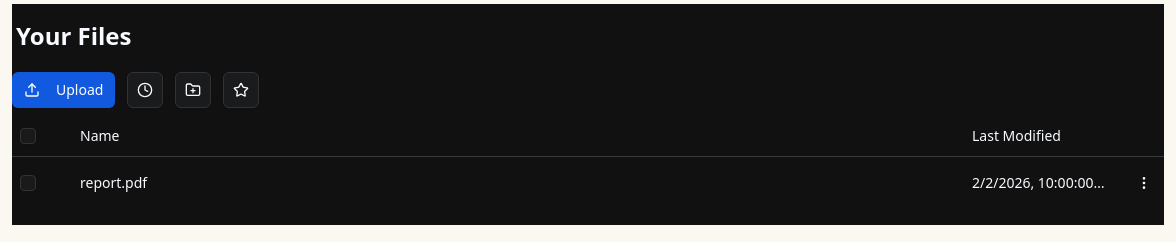
Test: FileTable + FileDialog › selection › toggles selection when the file row is clicked
The image size is (1176, 242).
Click the text "report.pdf": (114,182) [80,172,147,192]
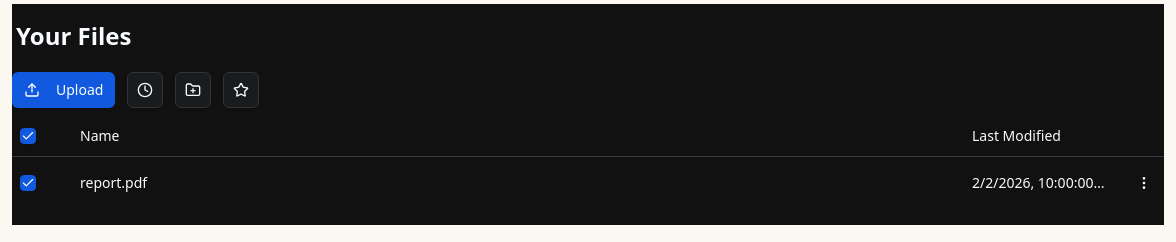
Expected: the checkbox next to "report.pdf" is checked, [20,174,36,190]
Click the text "report.pdf": (114,182) [80,172,147,192]
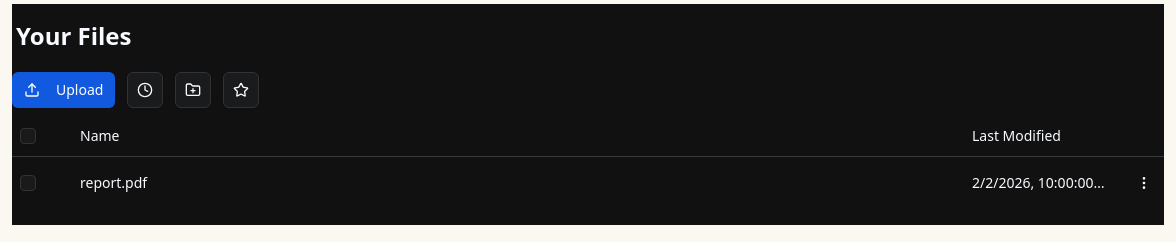
Expected: the checkbox next to "report.pdf" is not checked, [20,174,36,190]
